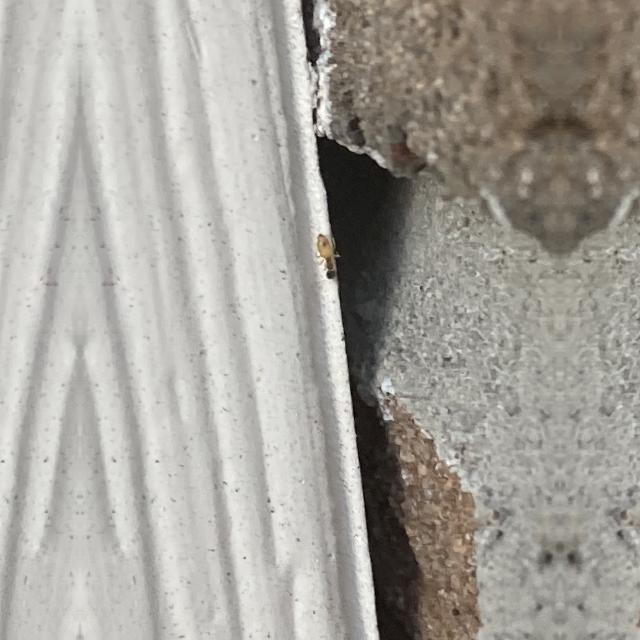Tapinoma: (312, 229, 344, 289)
